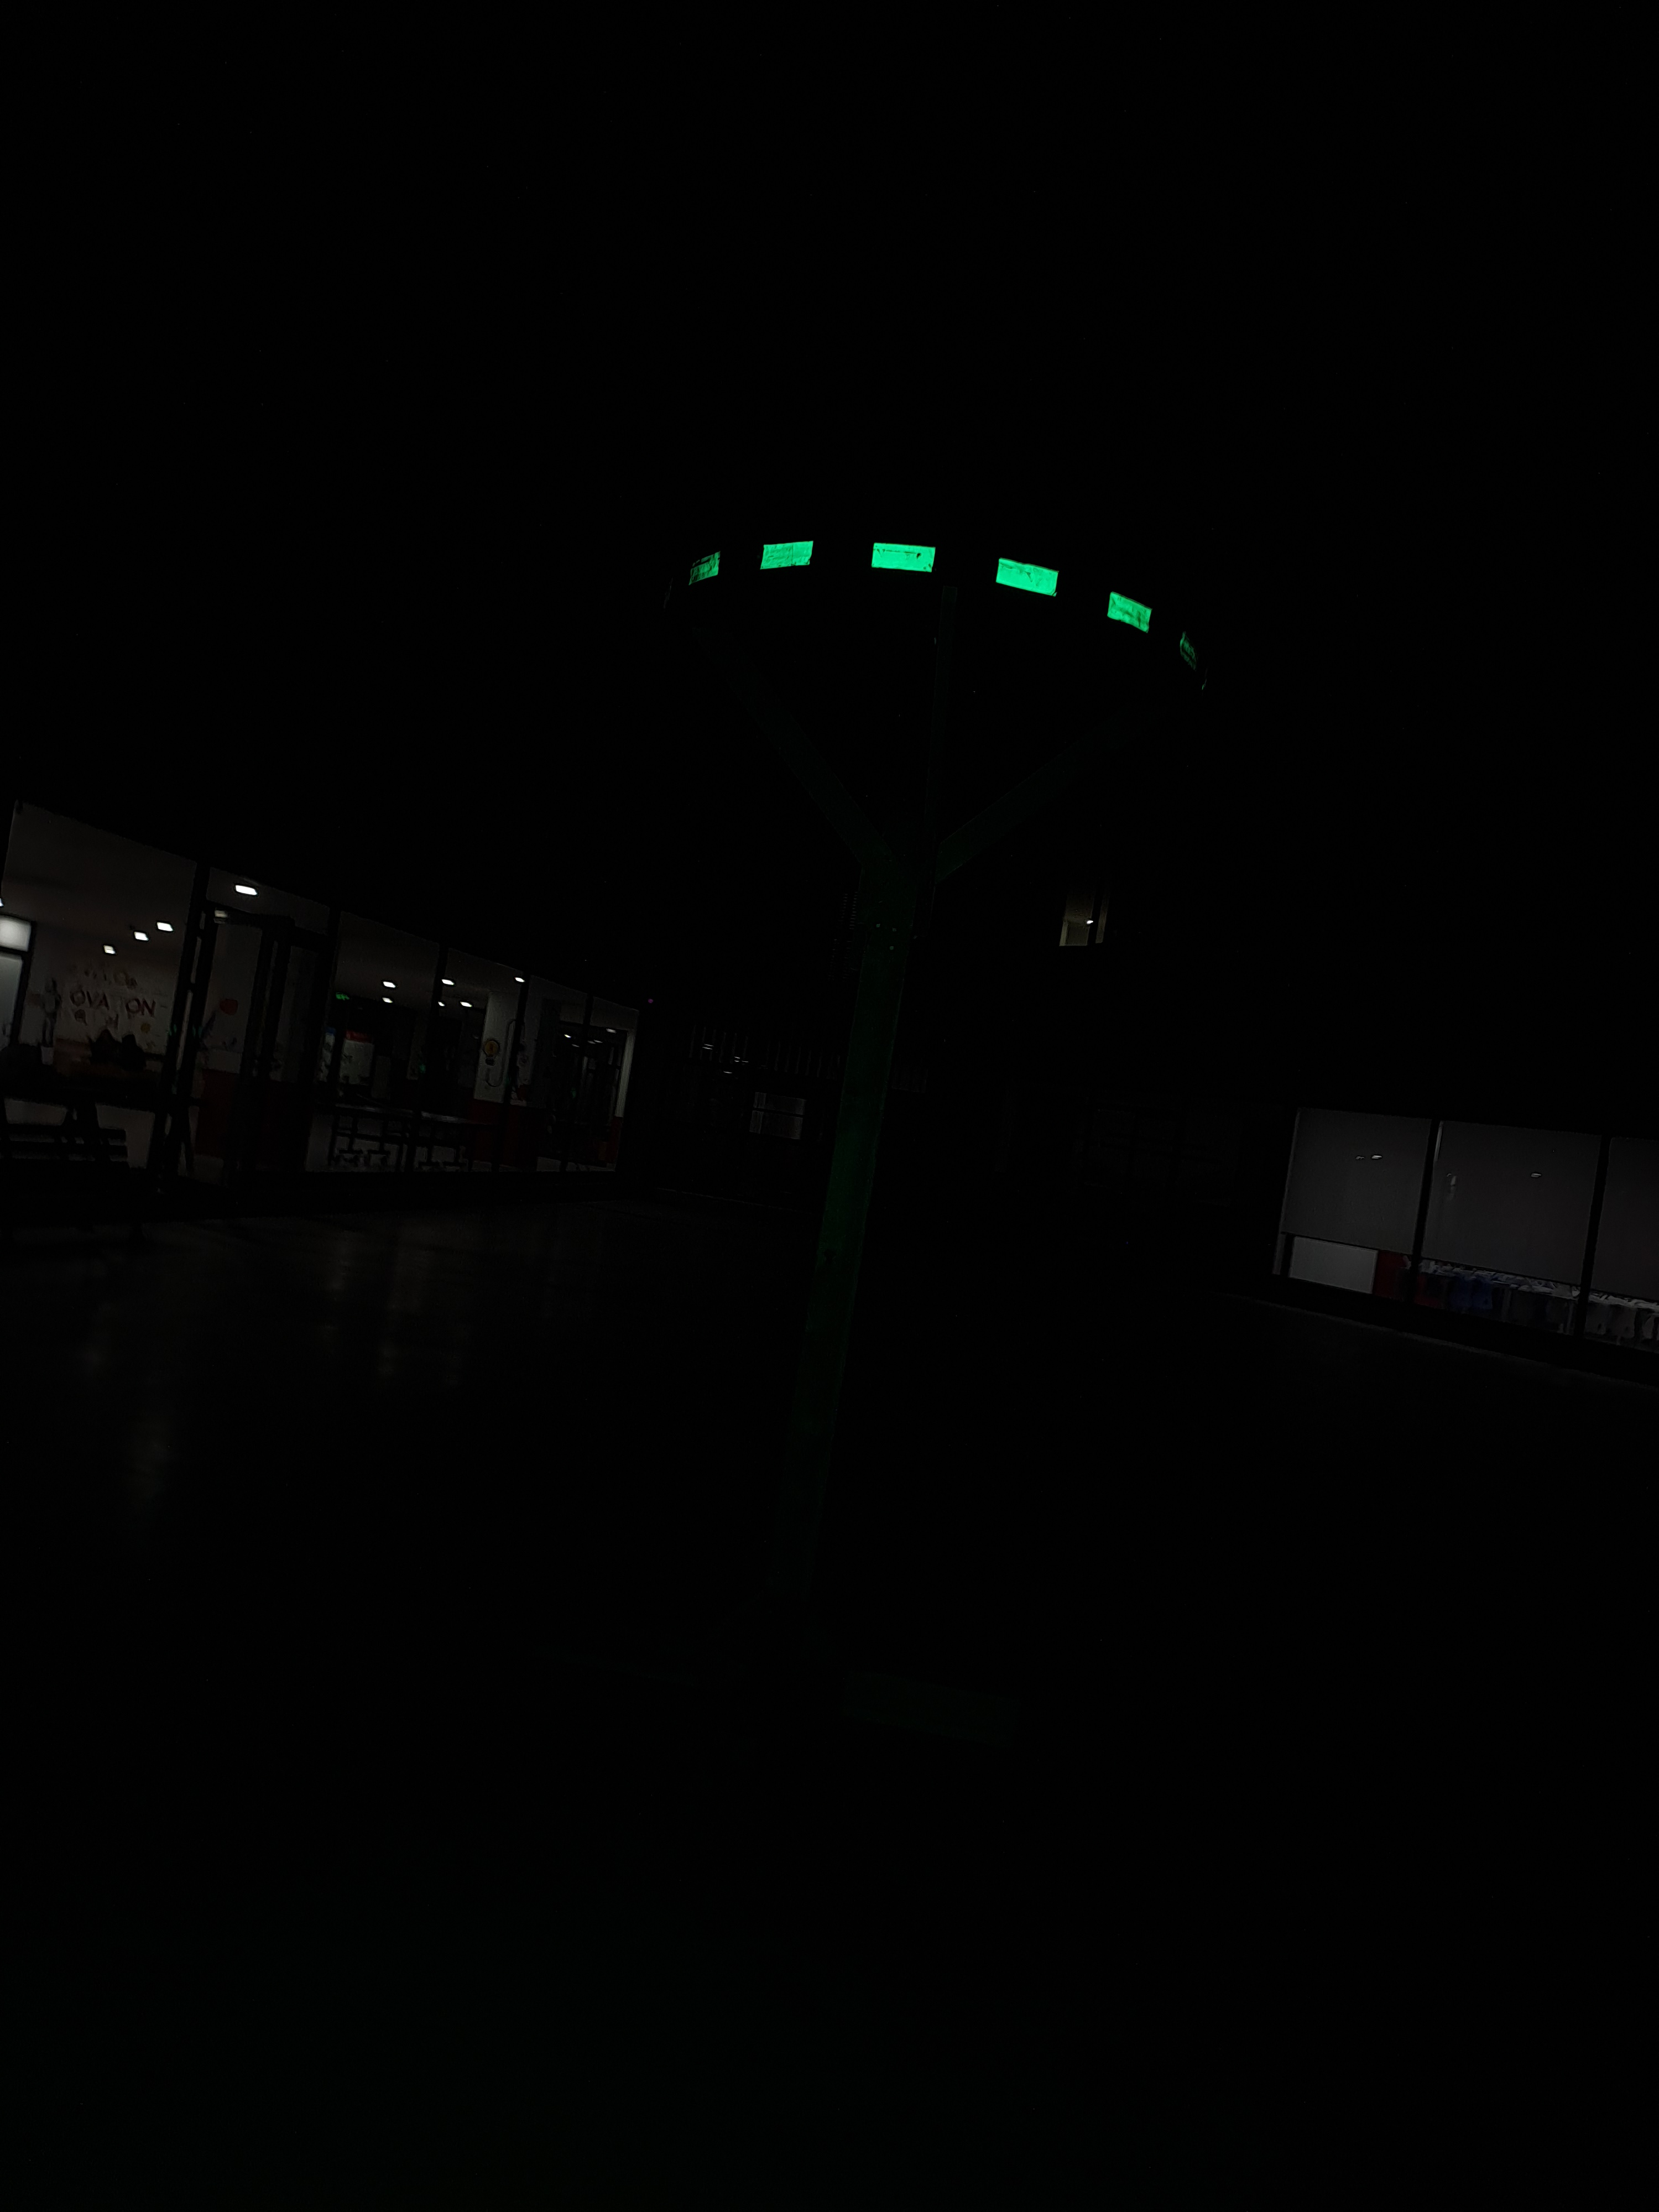hoop: (688, 505, 1157, 665)
